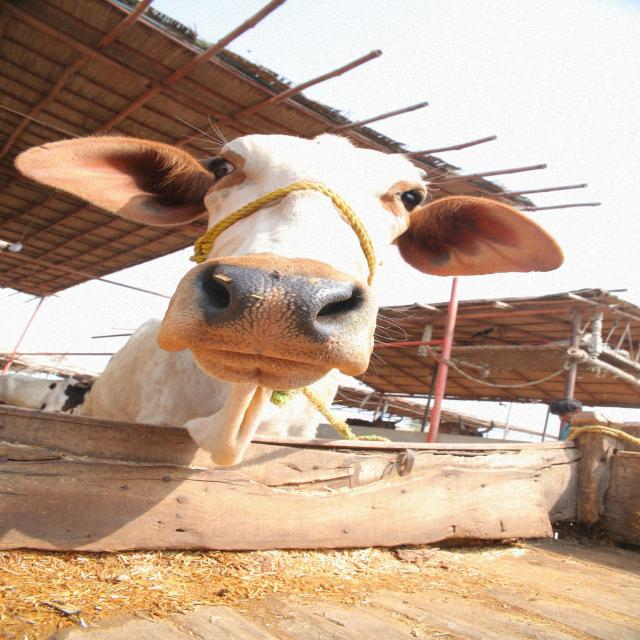muzzles: (188, 254, 366, 370)
